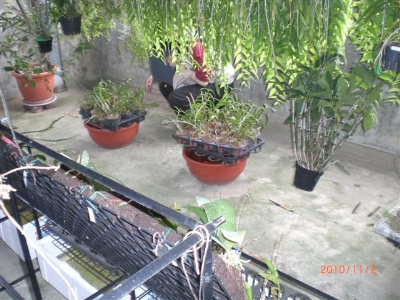bowl: (181, 147, 247, 184), (83, 123, 138, 149)
plate: (19, 94, 56, 107)
